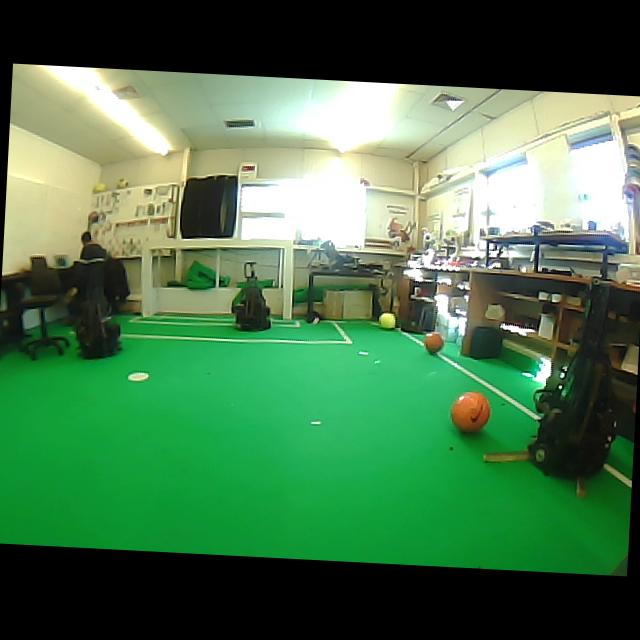ball: (451, 391, 490, 432), (425, 332, 443, 354), (379, 312, 395, 329), (93, 182, 106, 193), (117, 178, 128, 188)
goal: (141, 248, 154, 317), (282, 240, 293, 318)
robot: (529, 283, 616, 477), (76, 287, 121, 359), (232, 262, 270, 331)
